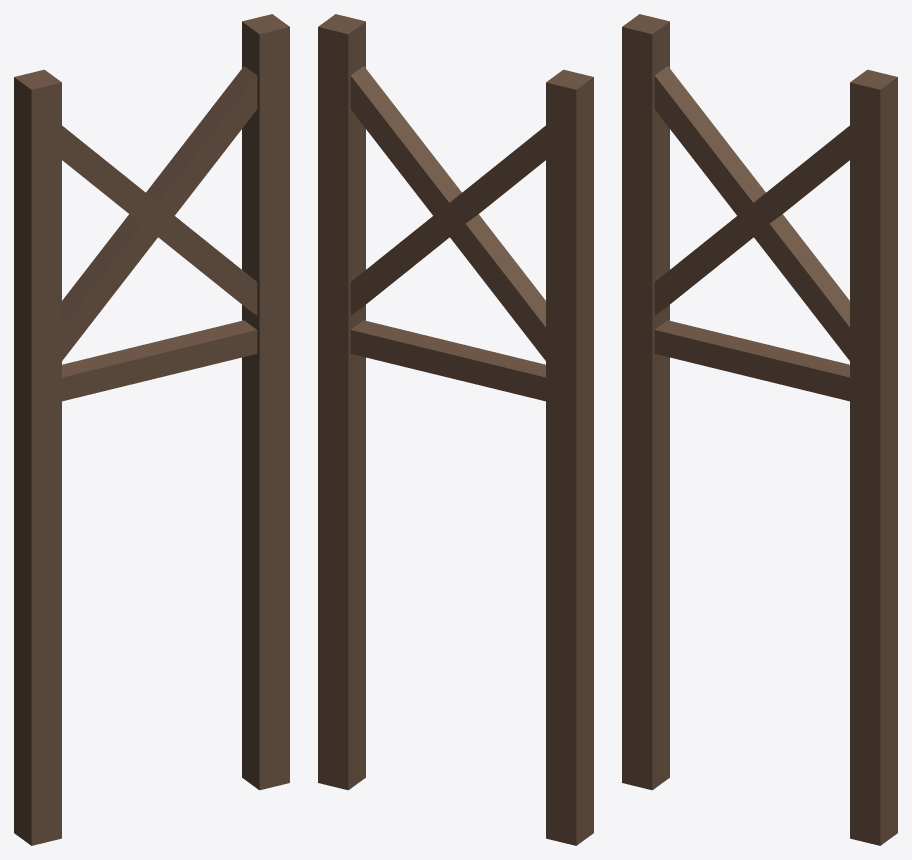
File: Wood Bridge Support base.fbx
3 views of the same model, side by side, from view 1: azimuth 30°, elevation 25°; view 2: azimuth 150°, elevation 25°; view 3: azimuth 330°, elevation 25° (orthographic).
Visible parts, largest first — view 1: Cube.558; view 2: Cube.558; view 3: Cube.558.
Part boxes in pixels (x1=…): Cube.558: x1=14, y1=14, x2=289, y2=845; Cube.558: x1=318, y1=14, x2=593, y2=845; Cube.558: x1=622, y1=14, x2=897, y2=845.
Bounding box in the file's own units: 5.09 × 14.25 × 0.6.
